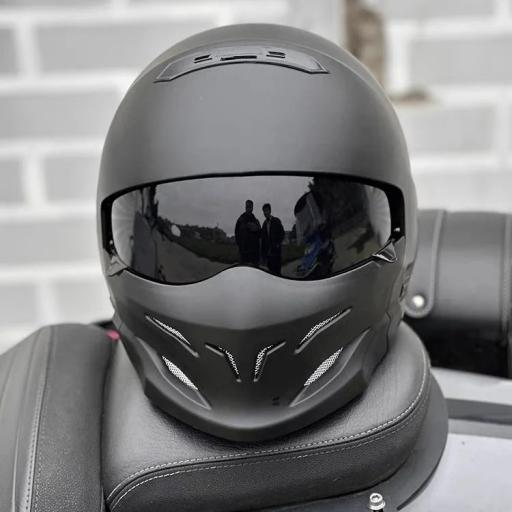helmet-detection: (70, 0, 453, 455)
